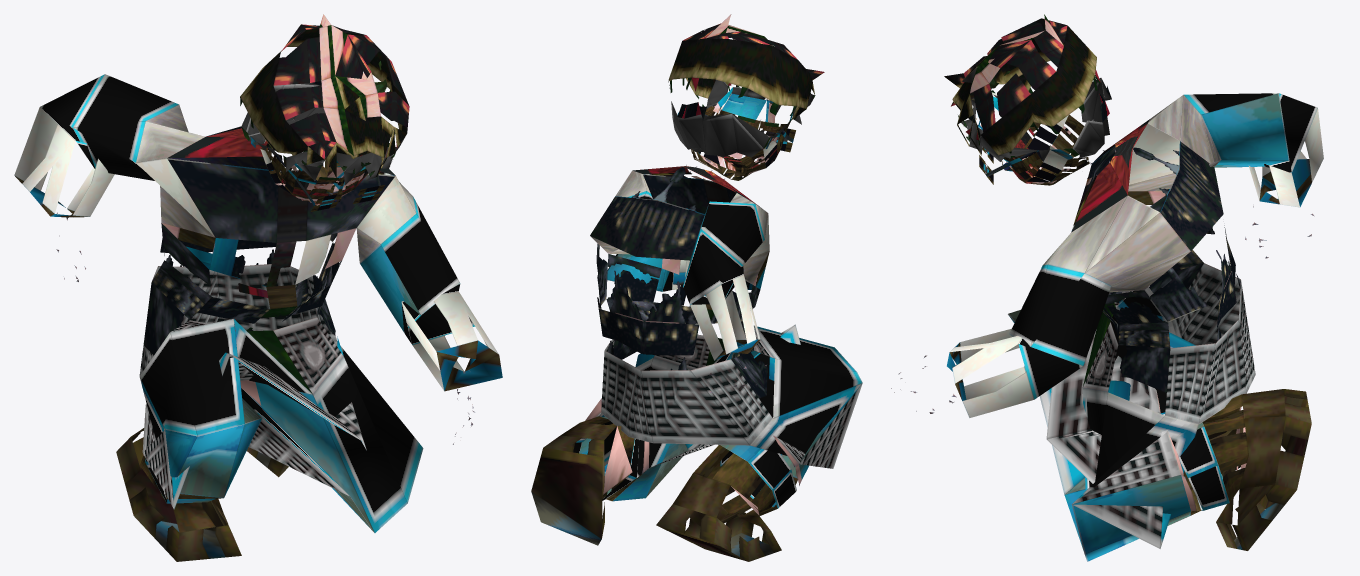
3 views of the same model, side by side, from view 1: azimuth 30°, elevation 25°; view 2: azimuth 150°, elevation 25°; view 3: azimuth 270°, elevation 25° (orthographic). The views are drawn at different scales.
Parts seen in each view (by area): view 1: T1L1M005_2; view 2: T1L1M005_2; view 3: T1L1M005_2.
Part boxes in pixels (left/top/right/bottom): T1L1M005_2: left=14, top=14, right=502, bottom=561; T1L1M005_2: left=531, top=14, right=862, bottom=561; T1L1M005_2: left=891, top=14, right=1323, bottom=561.
Size of the model in its own units: 0.5821 by 0.9799 by 0.7807.
